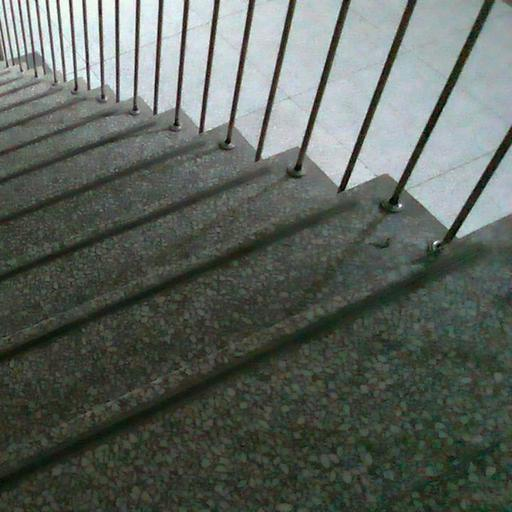Stairs: (0, 69, 512, 512)
